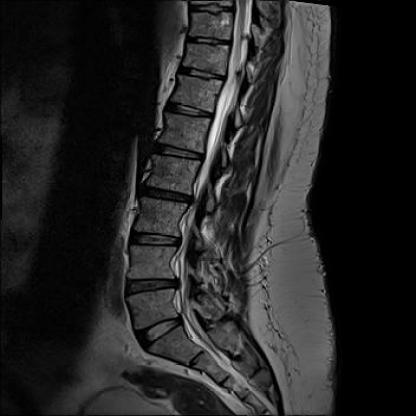Annular Disc Relaxationrotation: (130, 231, 179, 250), (152, 144, 206, 161)
Degenerative Disc Diseaserotation: (125, 275, 178, 300), (138, 186, 194, 206)
Disc Bulgerotation: (125, 274, 179, 299), (137, 318, 186, 342), (138, 186, 194, 206)
